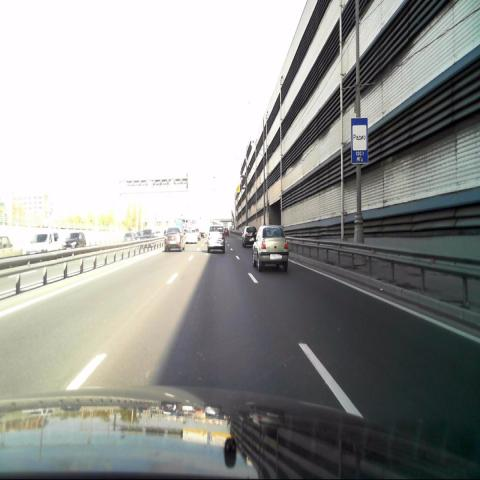7_15: (351, 118, 368, 164)
